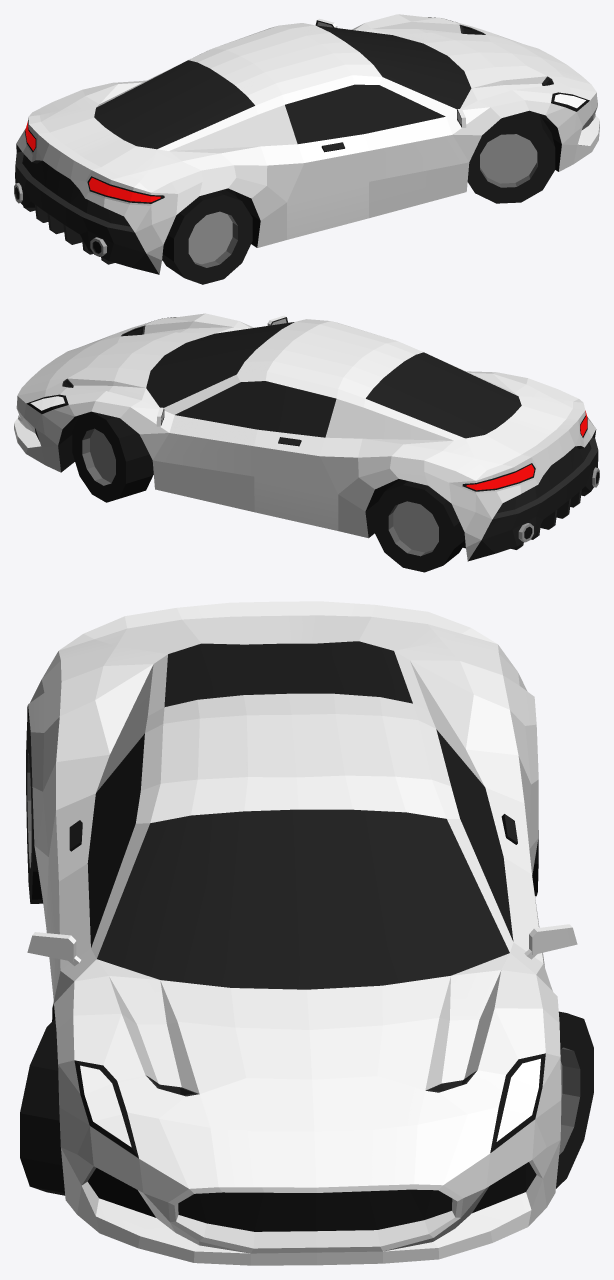
Rendered from Car_063.glb.
The picture shows the model from 3 angles, top to bottom: view 1: azimuth 30°, elevation 25°; view 2: azimuth 150°, elevation 25°; view 3: azimuth 270°, elevation 25°; orthographic projection. The views are drawn at different scales.
Parts seen in each view (by area): view 1: Car_063, wheel_3_Car_063_Wheel_2R, wheel_1_Car_063_Wheel_1R; view 2: Car_063, wheel_2_Car_063_Wheel_2L, wheel_0_Car_063_Wheel_1L; view 3: Car_063, wheel_1_Car_063_Wheel_1R, wheel_0_Car_063_Wheel_1L, wheel_3_Car_063_Wheel_2R.
Boxes of the visible parts, bbox=[...] form: Car_063: bbox=[14, 14, 599, 274]; wheel_3_Car_063_Wheel_2R: bbox=[162, 189, 252, 284]; wheel_1_Car_063_Wheel_1R: bbox=[467, 110, 555, 203]; Car_063: bbox=[14, 313, 599, 561]; wheel_2_Car_063_Wheel_2L: bbox=[373, 479, 465, 572]; wheel_0_Car_063_Wheel_1L: bbox=[72, 412, 153, 502]; Car_063: bbox=[27, 601, 577, 1265]; wheel_1_Car_063_Wheel_1R: bbox=[20, 1019, 65, 1195]; wheel_0_Car_063_Wheel_1L: bbox=[556, 1011, 593, 1188]; wheel_3_Car_063_Wheel_2R: bbox=[26, 718, 43, 903].
Size of the model in its own units: 4.98 by 1.3 by 2.38.
3 materials, 3 textured.
